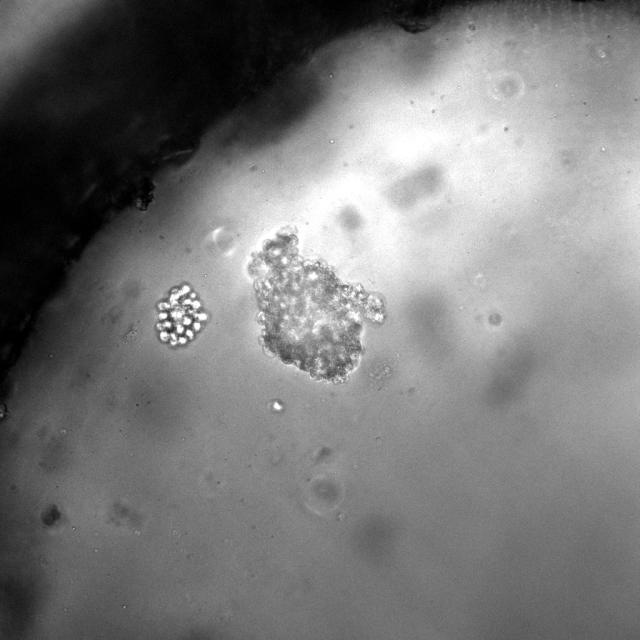organoid: (249, 229, 385, 382), (155, 282, 208, 347)
